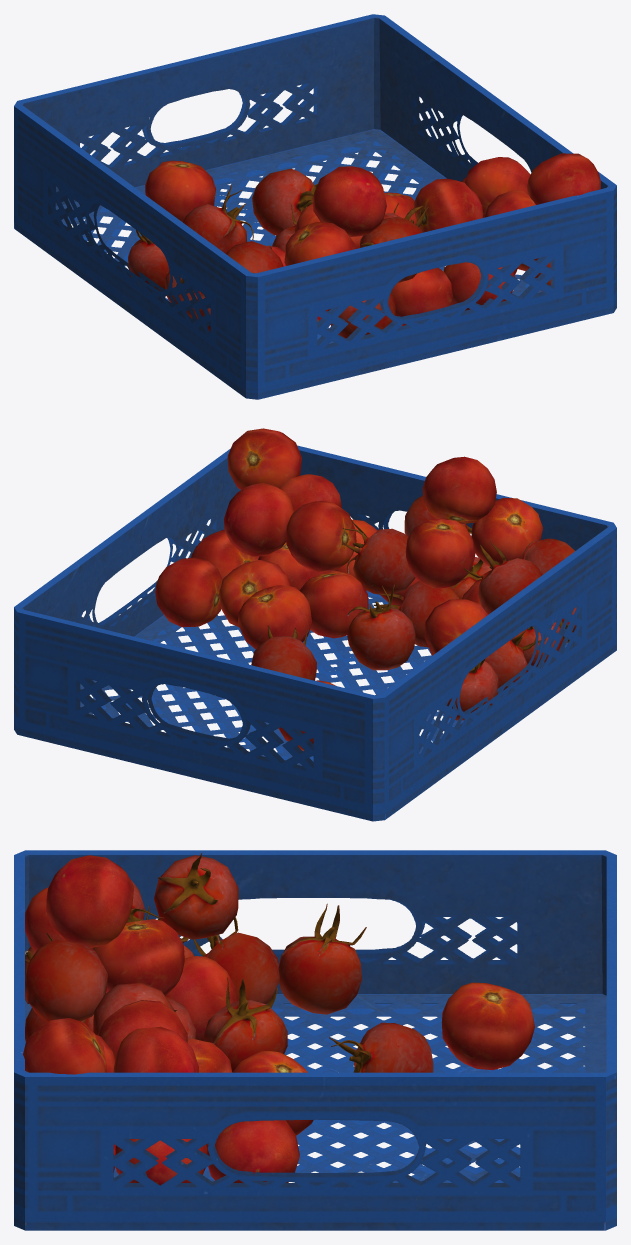
File: Prop_Tomato_Crate.fbx
3 renders of one model, top to bottom at view 1: azimuth 30°, elevation 25°; view 2: azimuth 150°, elevation 25°; view 3: azimuth 270°, elevation 25°, orthographic. The views are drawn at different scales.
Visible parts, largest first — view 1: Box_Blue, Tomatoes; view 2: Box_Blue, Tomatoes; view 3: Box_Blue, Tomatoes.
Boxes of the visible parts, left/top/right/bottom form: Box_Blue: left=14, top=14, right=616, bottom=399; Tomatoes: left=128, top=153, right=600, bottom=338; Box_Blue: left=14, top=445, right=616, bottom=821; Tomatoes: left=155, top=428, right=576, bottom=750; Box_Blue: left=14, top=850, right=616, bottom=1230; Tomatoes: left=23, top=853, right=534, bottom=1185.
Size of the model in its own units: 28.84 by 13.28 by 32.42.
